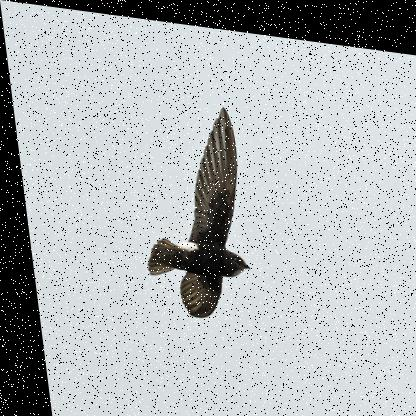Burung: (124, 90, 252, 319)
